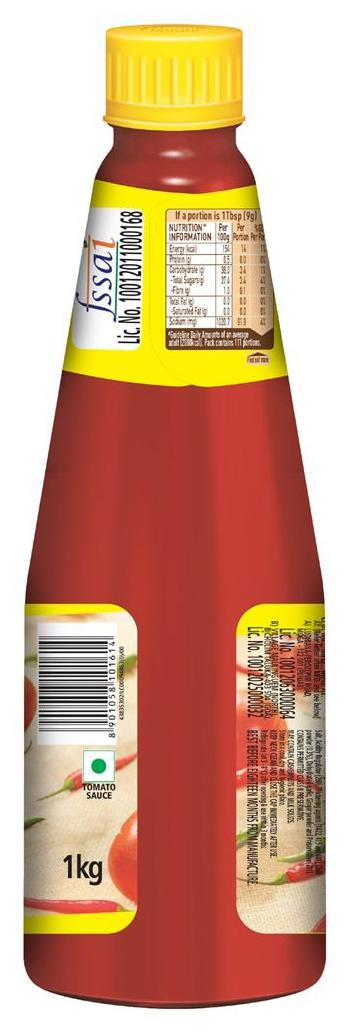fssai: (76, 239, 120, 325)
